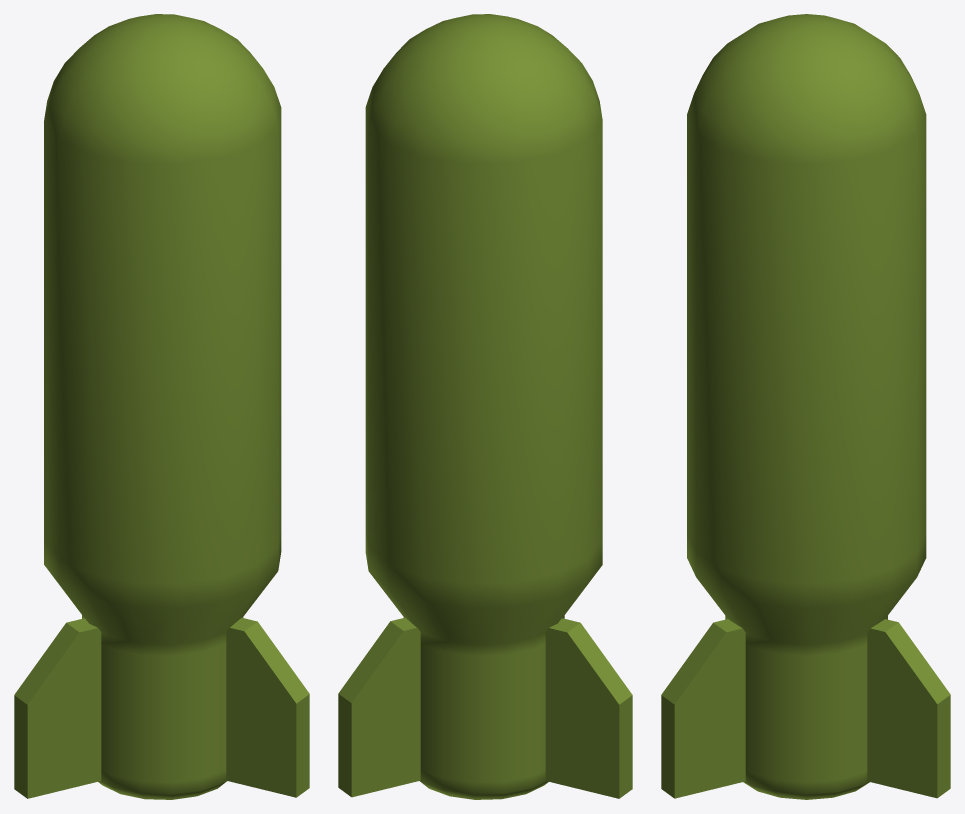
File: Bullet_20240715.fbx
3 views of the same model, side by side, from view 1: azimuth 30°, elevation 25°; view 2: azimuth 150°, elevation 25°; view 3: azimuth 270°, elevation 25° (orthographic).
Visible parts, largest first — view 1: Cube.012; view 2: Cube.012; view 3: Cube.012.
Part boxes in pixels (<box>): Cube.012: <box>14,14,309,799</box>; Cube.012: <box>338,14,632,799</box>; Cube.012: <box>661,14,950,799</box>.
Bounding box in the file's own units: 43.02 × 125 × 43.96.
